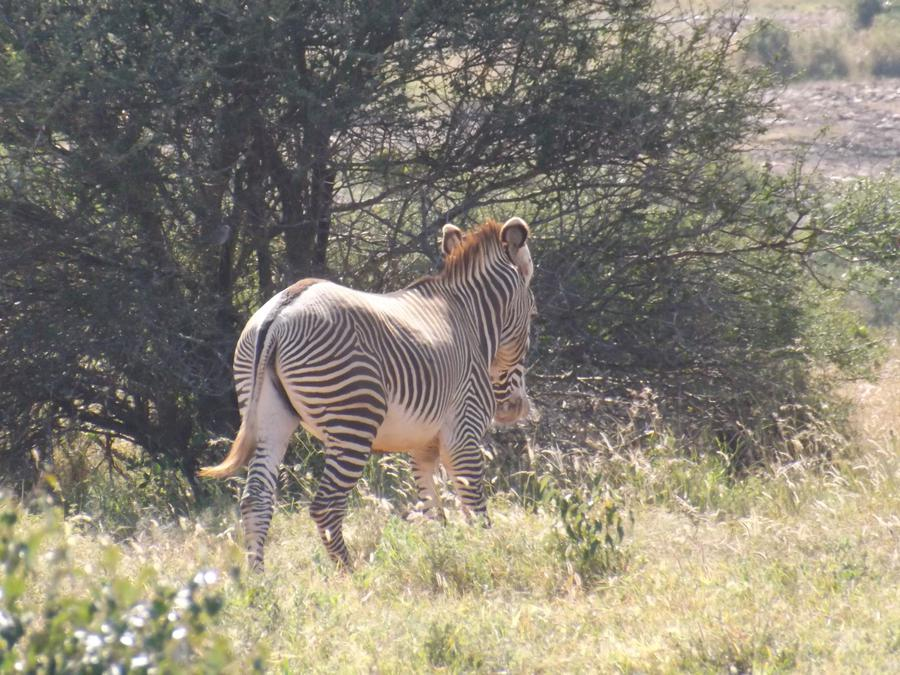zebra_grevys: (277, 275, 495, 431)
